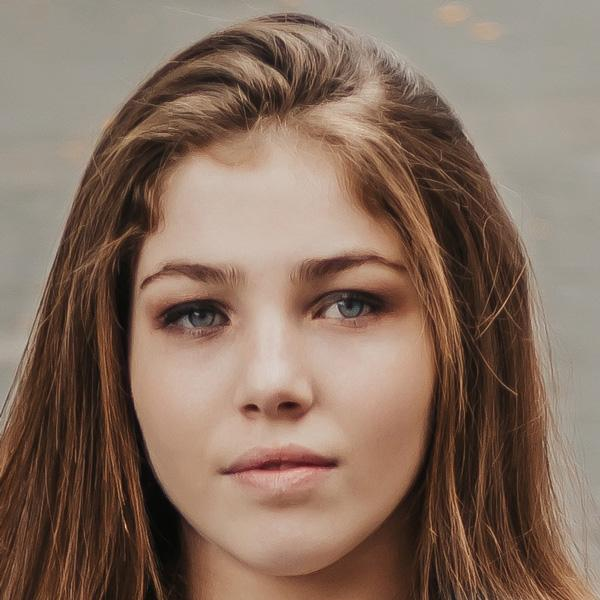Eyes: (146, 291, 241, 345), (300, 283, 391, 335)
